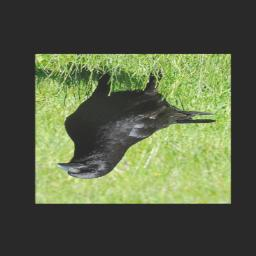Crow: (53, 68, 216, 180)
